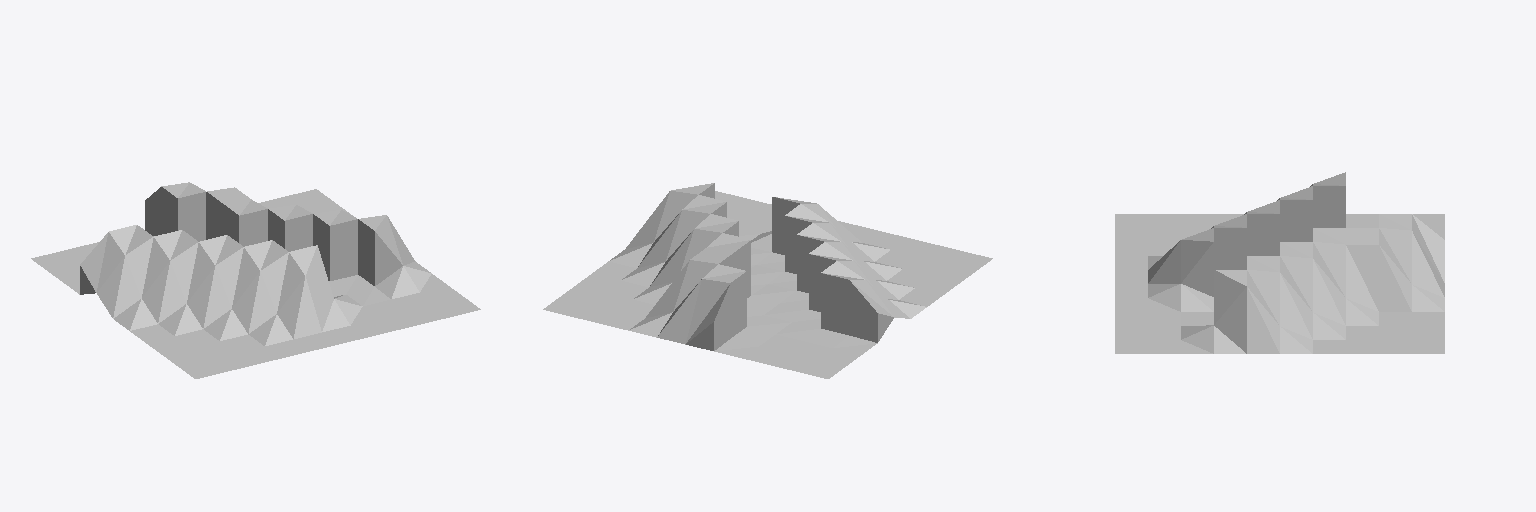
File: background_test2.obj
3 views of the same model, side by side, from view 1: azimuth 30°, elevation 25°; view 2: azimuth 150°, elevation 25°; view 3: azimuth 270°, elevation 25° (orthographic).
Visible parts, largest first — view 1: pPlane1; view 2: pPlane1; view 3: pPlane1.
Part boxes in pixels (left/top/right/bottom): pPlane1: left=31, top=182, right=480, bottom=378; pPlane1: left=543, top=183, right=992, bottom=378; pPlane1: left=1115, top=172, right=1444, bottom=353.
Bounding box in the file's own units: 23.66 × 4.46 × 23.66.